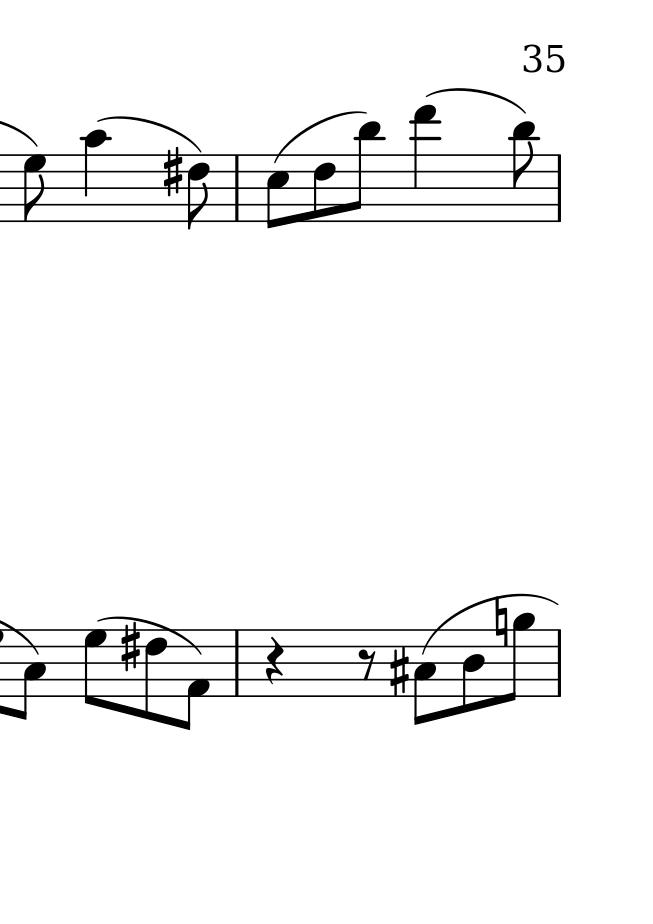3: (520, 41, 542, 74)
4_10: (82, 128, 111, 224)
4_13: (411, 105, 440, 223)
5: (543, 40, 568, 74)
8_1: (180, 626, 212, 733)
8_11: (347, 121, 385, 223), (510, 121, 536, 224)
8_3: (14, 627, 47, 723), (410, 628, 438, 728)
8_4: (460, 627, 486, 714)
8_5: (265, 154, 290, 233)
8_6: (142, 628, 168, 724), (186, 152, 214, 231), (311, 153, 335, 226)
8_7: (82, 627, 109, 712), (21, 153, 48, 223)
8_9: (503, 612, 536, 705)
Natural: (493, 598, 508, 648)
Rests4: (265, 636, 284, 687)
Rests8: (359, 647, 378, 679)
Sharp: (387, 647, 411, 700), (119, 623, 142, 670), (162, 146, 182, 197)
Single_barline: (228, 153, 249, 221), (228, 630, 245, 697), (550, 154, 566, 219), (551, 630, 566, 695)
Slur: (419, 592, 564, 655), (271, 108, 367, 162), (98, 613, 205, 656), (97, 112, 203, 153), (427, 85, 534, 117)
